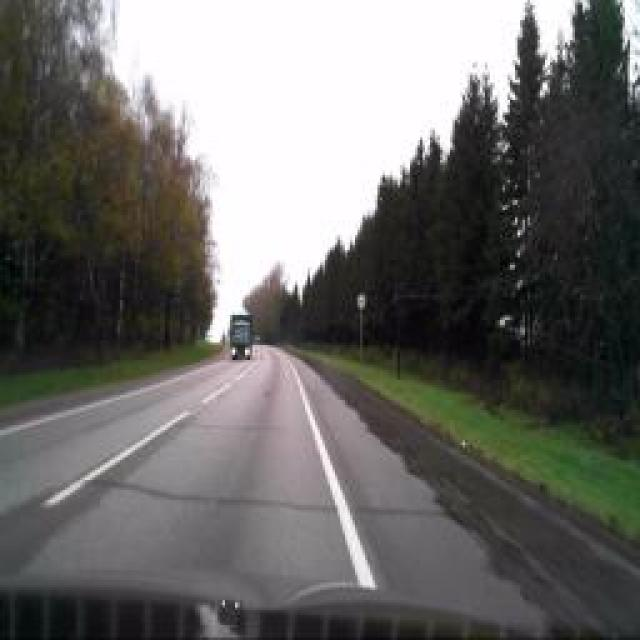sign: (356, 292, 366, 310)
